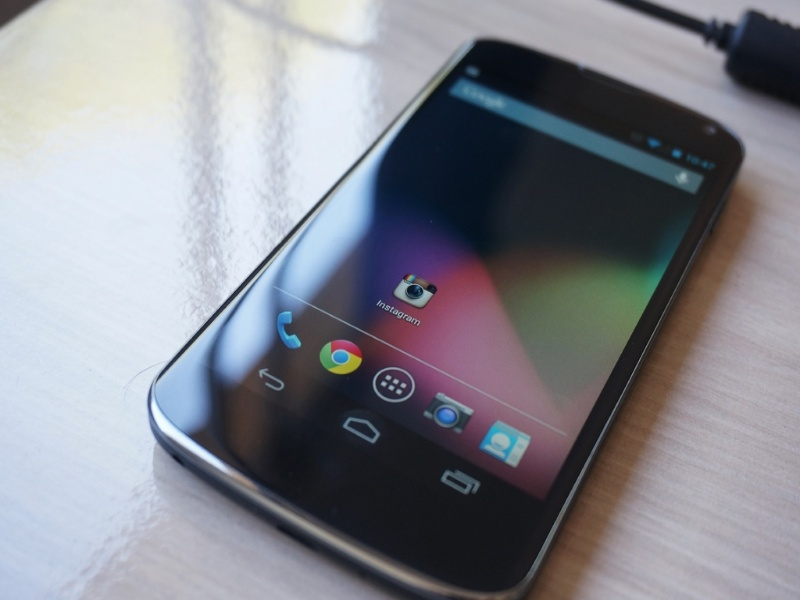Mobile Phone: (128, 7, 758, 600)
